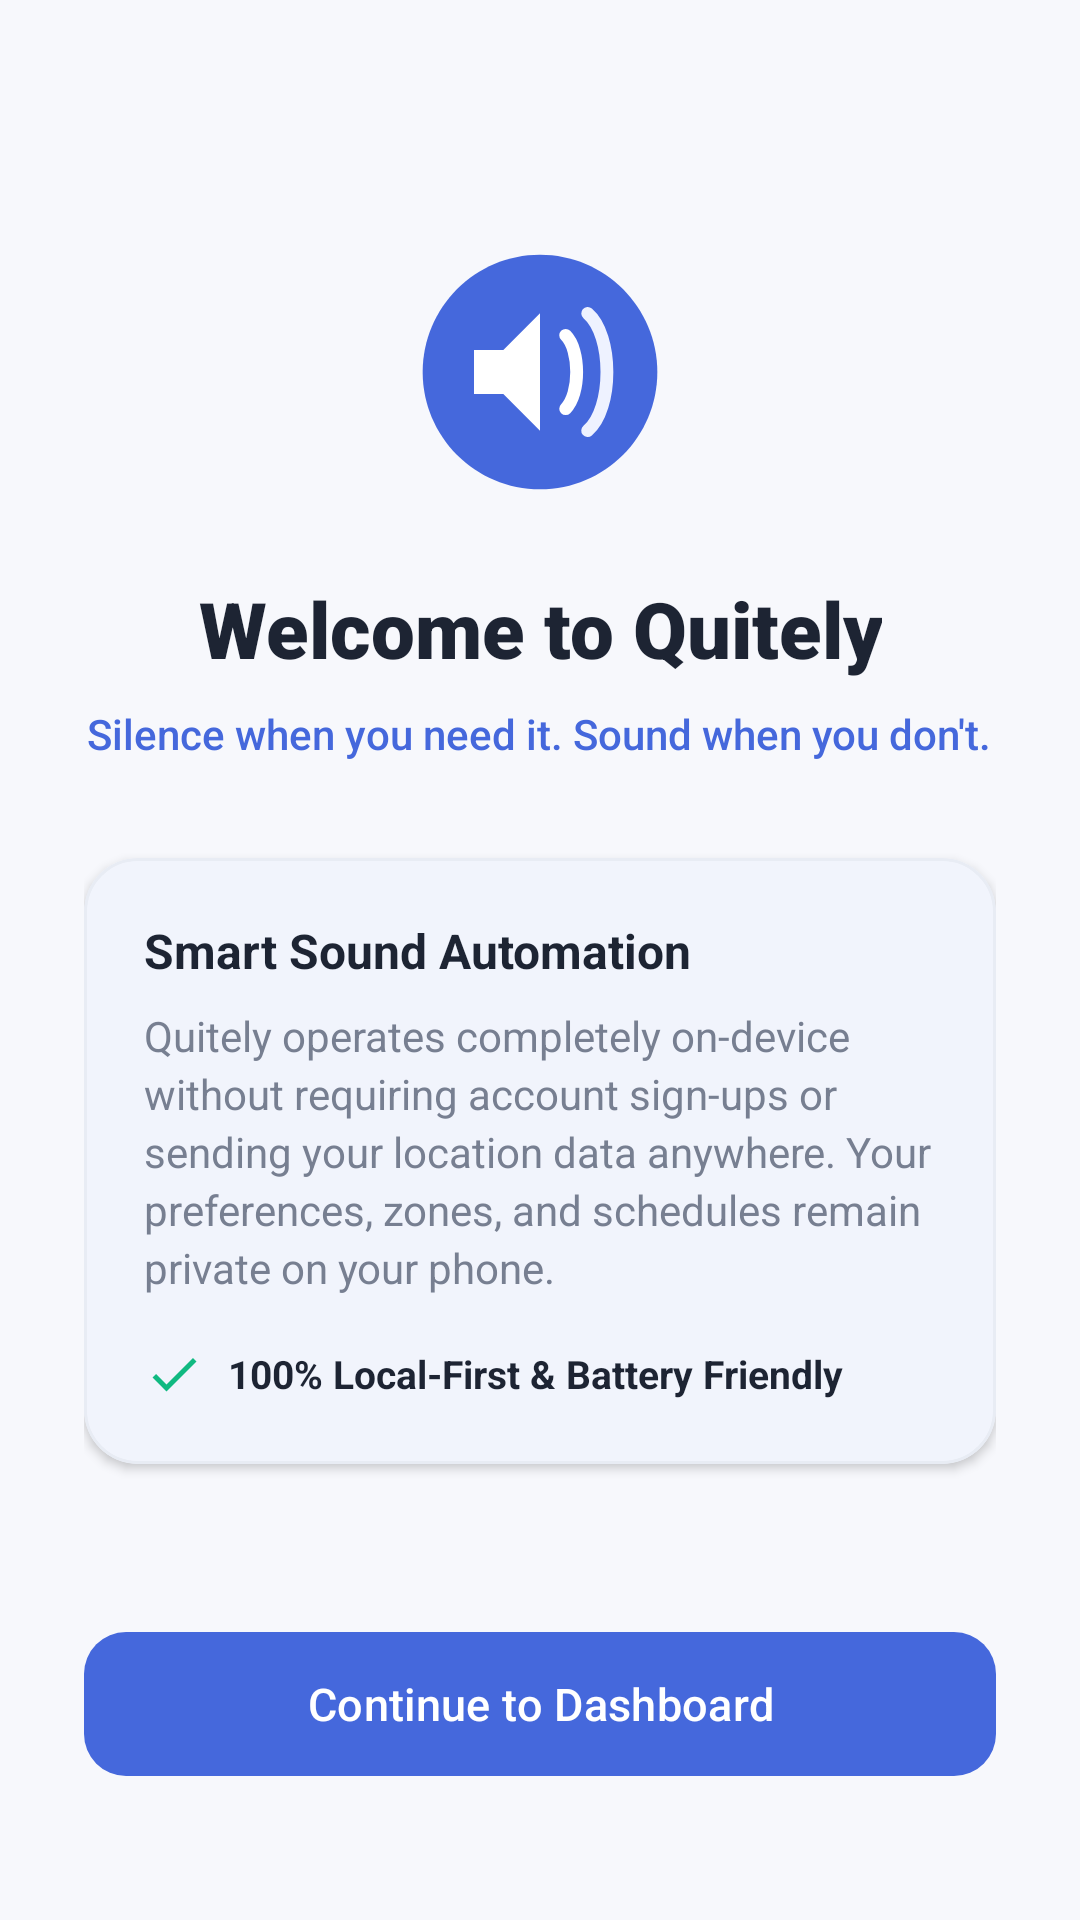

Where icons sit on this 1080x1920 app screen, as (x1, y1, x2, y2):
check: (152, 1358, 197, 1392)
